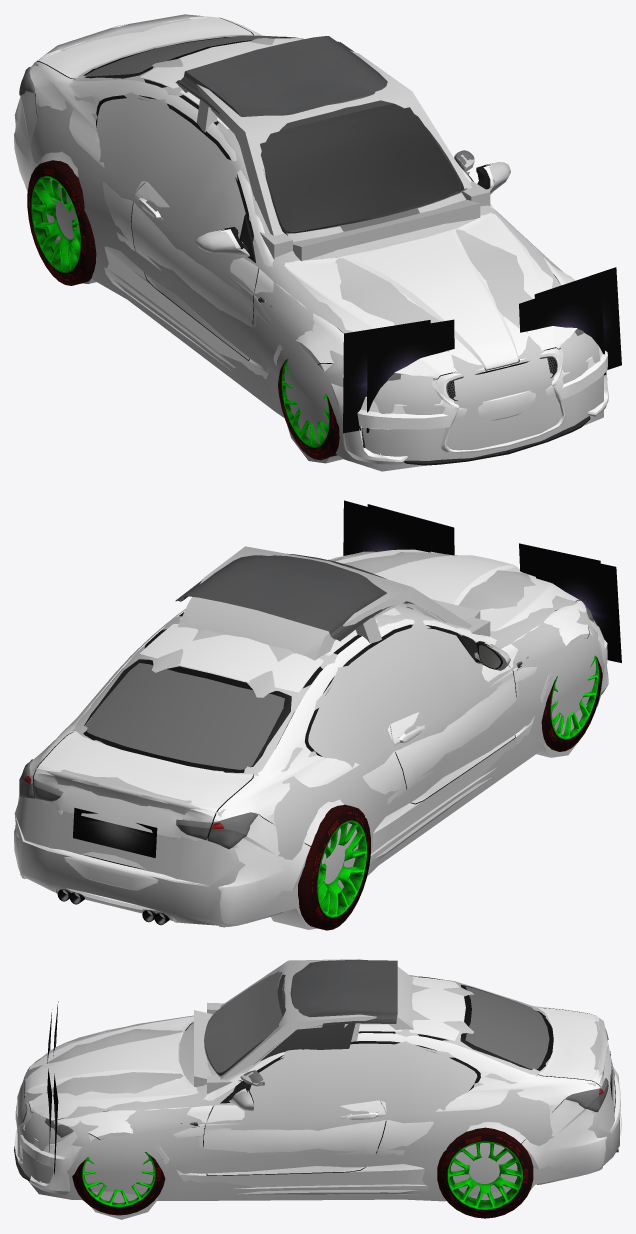
File: P_car-015_Grumete.fbx
The picture shows the model from 3 angles, top to bottom: view 1: azimuth 30°, elevation 25°; view 2: azimuth 150°, elevation 25°; view 3: azimuth 270°, elevation 25°; orthographic projection. The views are drawn at different scales.
Visible parts, largest first — view 1: M_Car-015_Shadow_Grumete_01, M_Car-015_Body_Grumete_01, M_Car-Interior_Glass_01, M_Car-Interior_Details_01, M_Car-015_FrontFlares_Grumete_01, M_Car-Interior_Shadowform_01, M_Car-015_Details_Grumete_01, M_CarWheel_003_AP_01 (×2), M_Car-015_Glass_Grumete_01, M_CaTire_003_AP_01 (×2), M_CaTire_003_AP_02; view 2: M_Car-015_Shadow_Grumete_01, M_Car-015_Body_Grumete_01, M_Car-015_Glass_Grumete_01, M_Car-Interior_Details_01, M_Car-015_FrontFlares_Grumete_01, M_Car-Interior_Shadowform_01, M_Car-015_Details_Grumete_01, M_CarWheel_003_AP_01 (×2), M_CaTire_003_AP_02 (×2), M_Car-015_BackFlares_Grumete_01, M_CaTire_003_AP_01; view 3: M_Car-015_Shadow_Grumete_01, M_Car-015_Body_Grumete_01, M_Car-Interior_Details_01, M_Car-Interior_Glass_01, M_Car-Interior_Shadowform_01, M_Car-015_Glass_Grumete_01, M_CarWheel_003_AP_01 (×2), M_Car-015_Details_Grumete_01, M_CaTire_003_AP_01 (×2), M_CaTire_003_AP_02 (×2), M_Car-015_FrontFlares_Grumete_01.
Part boxes in pixels (<box>): M_Car-015_Shadow_Grumete_01: <box>14,14,603,471</box>; M_Car-015_Body_Grumete_01: <box>14,16,608,464</box>; M_Car-Interior_Glass_01: <box>260,103,460,231</box>; M_Car-Interior_Details_01: <box>175,36,474,235</box>; M_Car-015_FrontFlares_Grumete_01: <box>343,267,621,433</box>; M_Car-Interior_Shadowform_01: <box>177,51,490,261</box>; M_Car-015_Details_Grumete_01: <box>35,18,604,465</box>; M_CarWheel_003_AP_01 (×2): <box>27,160,339,460</box>; M_Car-015_Glass_Grumete_01: <box>19,35,583,380</box>; M_CaTire_003_AP_01 (×2): <box>31,175,312,446</box>; M_CaTire_003_AP_02: <box>59,184,80,273</box>; M_Car-015_Shadow_Grumete_01: <box>14,551,604,929</box>; M_Car-015_Body_Grumete_01: <box>14,549,608,927</box>; M_Car-015_Glass_Grumete_01: <box>19,606,593,849</box>; M_Car-Interior_Details_01: <box>175,553,444,641</box>; M_Car-015_FrontFlares_Grumete_01: <box>343,500,621,662</box>; M_Car-Interior_Shadowform_01: <box>177,546,490,660</box>; M_Car-015_Details_Grumete_01: <box>32,600,589,927</box>; M_CarWheel_003_AP_01 (×2): <box>298,657,602,930</box>; M_CaTire_003_AP_02 (×2): <box>333,655,598,909</box>; M_Car-015_BackFlares_Grumete_01: <box>73,807,157,858</box>; M_CaTire_003_AP_01: <box>317,821,348,917</box>; M_Car-015_Shadow_Grumete_01: <box>17,975,619,1219</box>; M_Car-015_Body_Grumete_01: <box>14,975,621,1194</box>; M_Car-Interior_Details_01: <box>204,960,397,1085</box>; M_Car-Interior_Glass_01: <box>204,971,355,1072</box>; M_Car-Interior_Shadowform_01: <box>194,959,413,1093</box>; M_Car-015_Glass_Grumete_01: <box>45,986,608,1137</box>; M_CarWheel_003_AP_01 (×2): <box>72,1127,533,1218</box>; M_Car-015_Details_Grumete_01: <box>14,976,618,1180</box>; M_CaTire_003_AP_01 (×2): <box>82,1141,494,1209</box>; M_CaTire_003_AP_02 (×2): <box>120,1142,522,1209</box>; M_Car-015_FrontFlares_Grumete_01: <box>47,1001,58,1174</box>.
Size of the model in its own units: 2.06 by 1.57 by 4.59.
